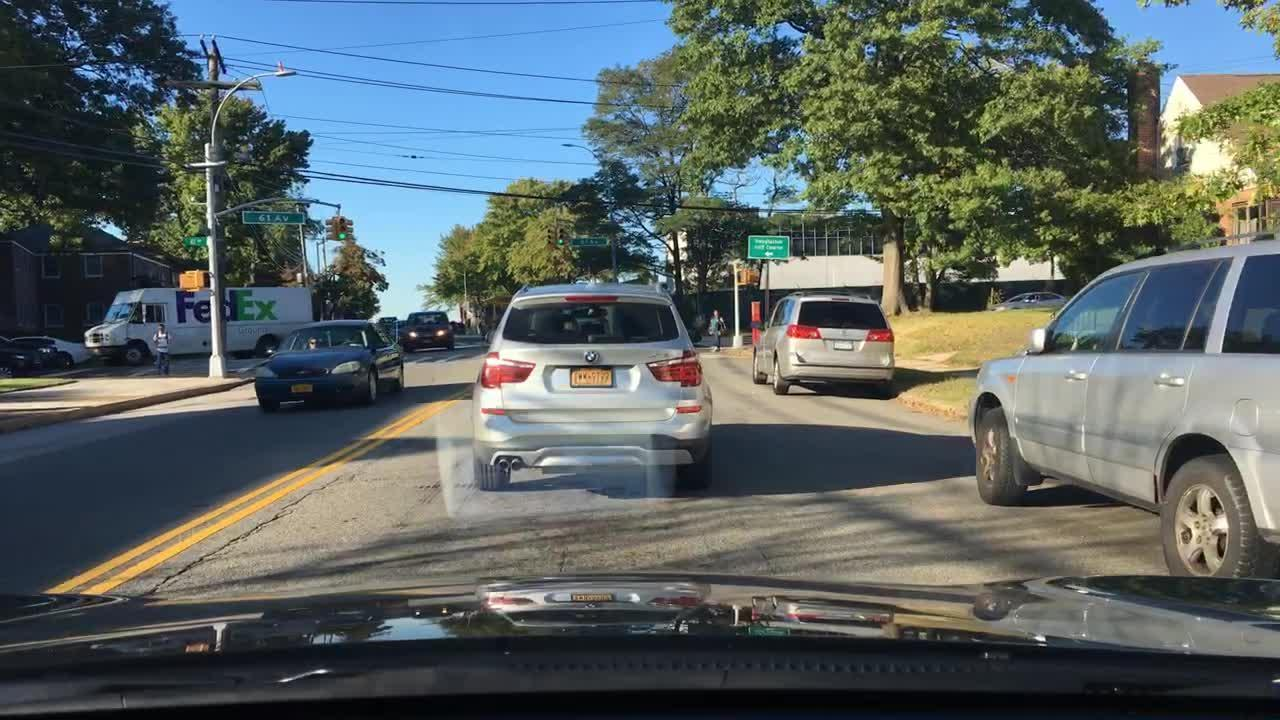bmw: (581, 350, 603, 365)
